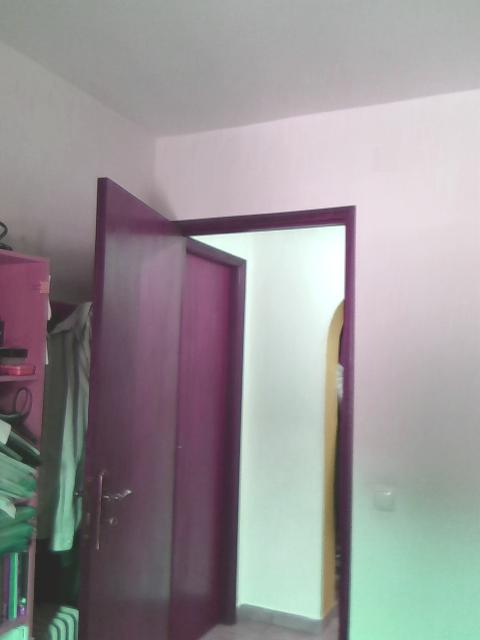open_door: (155, 203, 355, 638)
